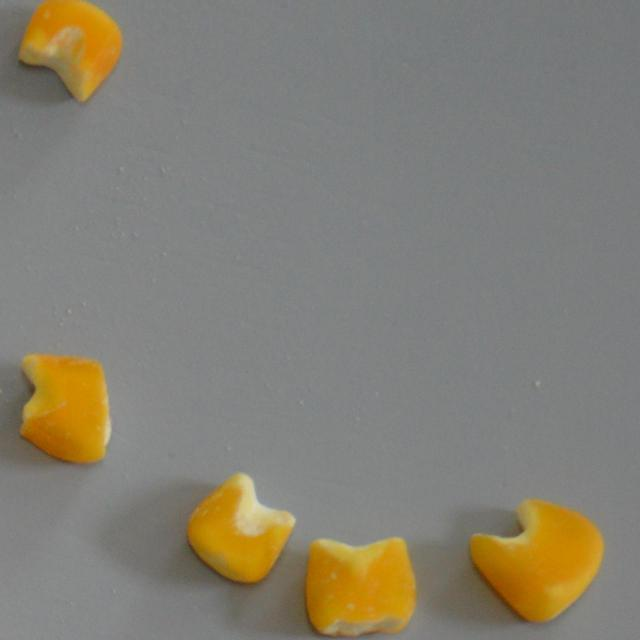no_canjicado: (468, 498, 604, 626), (182, 471, 295, 586), (14, 0, 123, 103), (304, 536, 417, 635), (15, 352, 112, 464)
